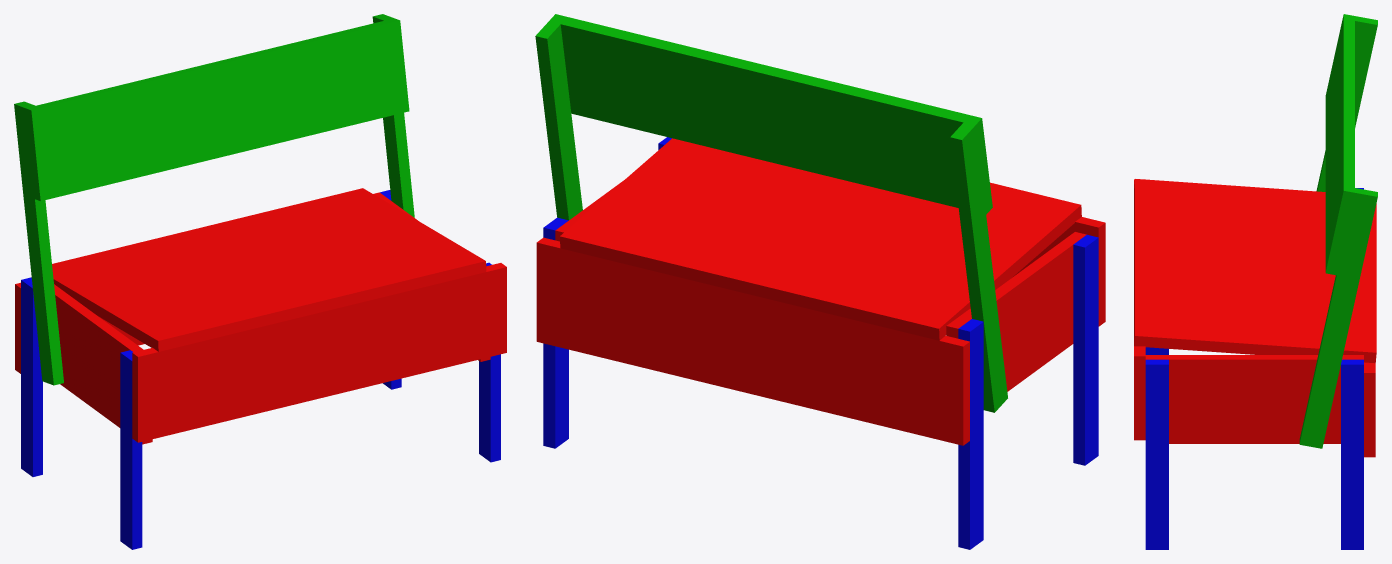
The model's file is result.glb.
The picture shows the model from 3 angles, left to right: view 1: azimuth 30°, elevation 25°; view 2: azimuth 150°, elevation 25°; view 3: azimuth 270°, elevation 25°; orthographic projection. The views are drawn at different scales.
Visible parts, largest first — view 1: 12edac28-12b5-41e8-89d9-925f14b7f547__back rest plank, 0223175d-d548-4412-989a-db3840c0fc50__back rest plank, 7d2c258c-1a80-46c8-bcc9-03d5c8d1cd6d__base front, 18c5d518-d3d4-40ce-b4d2-0784bac637be__base front, 7c1b27d6-04a7-4052-9a96-cad68e4f96f6__seat board, aad67730-fbe4-4bda-a242-ced0f87733a7__back rest diagonal, cc63d6dc-ee91-415e-93f1-566ccf4d4a65__seat board, da2111a9-cc51-41ec-aeac-295d4d546bab__seat board, 5ee04900-88dc-4803-b4aa-6ea64205f2cc__seat board, 66f8ef5d-ec7e-4cf6-8318-796b88fdcec1__seat board, 1e4abac7-1fc5-446a-ab41-708cb88c4a9f__seat board, fcd9bebe-1f1f-41c8-ac15-ca68c6cea325__seat board (+7 smaller); view 2: 38e5304f-0453-43d9-9e38-04c4804c6b64__base back, af1c08e3-7c74-4e7f-a2ca-7df6e5864b85__base back, 12edac28-12b5-41e8-89d9-925f14b7f547__back rest plank, 0223175d-d548-4412-989a-db3840c0fc50__back rest plank, 7c1b27d6-04a7-4052-9a96-cad68e4f96f6__seat board, aad67730-fbe4-4bda-a242-ced0f87733a7__back rest diagonal, cc63d6dc-ee91-415e-93f1-566ccf4d4a65__seat board, 4db6ea7e-4d0a-4ecd-9008-5f8ab3ad8c37__seat board, 1e4abac7-1fc5-446a-ab41-708cb88c4a9f__seat board, 5ee04900-88dc-4803-b4aa-6ea64205f2cc__seat board, da2111a9-cc51-41ec-aeac-295d4d546bab__seat board, 66f8ef5d-ec7e-4cf6-8318-796b88fdcec1__seat board (+8 smaller); view 3: 9497cfe2-d16a-4cb4-8c65-81897382cc2a__base right, 5ee04900-88dc-4803-b4aa-6ea64205f2cc__seat board, 7a25e896-629a-46d9-8ebb-9106564c409b__back rest diagonal, 1dfa5de0-2977-4fc6-8f24-99ef8a7f3571__base right, ccd7a5e8-89a0-46a1-89be-57693fa328c6__leg front right, 1e4abac7-1fc5-446a-ab41-708cb88c4a9f__seat board, fcd9bebe-1f1f-41c8-ac15-ca68c6cea325__seat board, 66f8ef5d-ec7e-4cf6-8318-796b88fdcec1__seat board, 9e358faa-f13c-4597-bcc3-8024508c7f25__leg back right, 12edac28-12b5-41e8-89d9-925f14b7f547__back rest plank, da2111a9-cc51-41ec-aeac-295d4d546bab__seat board, 4db6ea7e-4d0a-4ecd-9008-5f8ab3ad8c37__seat board (+8 smaller).
Part boxes in pixels (<box>): 12edac28-12b5-41e8-89d9-925f14b7f547__back rest plank: <box>25,18,404,155</box>; 0223175d-d548-4412-989a-db3840c0fc50__back rest plank: <box>30,66,409,201</box>; 7d2c258c-1a80-46c8-bcc9-03d5c8d1cd6d__base front: <box>132,263,506,399</box>; 18c5d518-d3d4-40ce-b4d2-0784bac637be__base front: <box>132,310,506,442</box>; 7c1b27d6-04a7-4052-9a96-cad68e4f96f6__seat board: <box>52,258,199,351</box>; aad67730-fbe4-4bda-a242-ced0f87733a7__back rest diagonal: <box>14,101,63,385</box>; cc63d6dc-ee91-415e-93f1-566ccf4d4a65__seat board: <box>76,248,240,341</box>; da2111a9-cc51-41ec-aeac-295d4d546bab__seat board: <box>158,228,322,321</box>; 5ee04900-88dc-4803-b4aa-6ea64205f2cc__seat board: <box>322,188,486,281</box>; 66f8ef5d-ec7e-4cf6-8318-796b88fdcec1__seat board: <box>199,218,363,311</box>; 1e4abac7-1fc5-446a-ab41-708cb88c4a9f__seat board: <box>240,208,404,301</box>; fcd9bebe-1f1f-41c8-ac15-ca68c6cea325__seat board: <box>281,198,445,291</box>; 38e5304f-0453-43d9-9e38-04c4804c6b64__base back: <box>536,237,969,395</box>; af1c08e3-7c74-4e7f-a2ca-7df6e5864b85__base back: <box>536,292,969,445</box>; 12edac28-12b5-41e8-89d9-925f14b7f547__back rest plank: <box>549,14,987,169</box>; 0223175d-d548-4412-989a-db3840c0fc50__back rest plank: <box>566,69,992,214</box>; 7c1b27d6-04a7-4052-9a96-cad68e4f96f6__seat board: <box>891,193,1081,340</box>; aad67730-fbe4-4bda-a242-ced0f87733a7__back rest diagonal: <box>950,122,1007,412</box>; cc63d6dc-ee91-415e-93f1-566ccf4d4a65__seat board: <box>844,182,1033,328</box>; 4db6ea7e-4d0a-4ecd-9008-5f8ab3ad8c37__seat board: <box>797,196,956,317</box>; 1e4abac7-1fc5-446a-ab41-708cb88c4a9f__seat board: <box>654,161,813,282</box>; 5ee04900-88dc-4803-b4aa-6ea64205f2cc__seat board: <box>560,138,719,259</box>; da2111a9-cc51-41ec-aeac-295d4d546bab__seat board: <box>749,184,908,305</box>; 66f8ef5d-ec7e-4cf6-8318-796b88fdcec1__seat board: <box>702,173,861,294</box>; 9497cfe2-d16a-4cb4-8c65-81897382cc2a__base right: <box>1145,355,1363,401</box>; 5ee04900-88dc-4803-b4aa-6ea64205f2cc__seat board: <box>1134,316,1376,363</box>; 7a25e896-629a-46d9-8ebb-9106564c409b__back rest diagonal: <box>1299,188,1377,448</box>; 1dfa5de0-2977-4fc6-8f24-99ef8a7f3571__base right: <box>1169,402,1340,443</box>; ccd7a5e8-89a0-46a1-89be-57693fa328c6__leg front right: <box>1145,359,1168,549</box>; 1e4abac7-1fc5-446a-ab41-708cb88c4a9f__seat board: <box>1134,277,1376,313</box>; fcd9bebe-1f1f-41c8-ac15-ca68c6cea325__seat board: <box>1134,296,1376,332</box>; 66f8ef5d-ec7e-4cf6-8318-796b88fdcec1__seat board: <box>1134,257,1376,293</box>; 9e358faa-f13c-4597-bcc3-8024508c7f25__leg back right: <box>1341,359,1363,549</box>; 12edac28-12b5-41e8-89d9-925f14b7f547__back rest plank: <box>1334,14,1354,233</box>; da2111a9-cc51-41ec-aeac-295d4d546bab__seat board: <box>1134,237,1376,274</box>; 4db6ea7e-4d0a-4ecd-9008-5f8ab3ad8c37__seat board: <box>1134,218,1376,254</box>.
Size of the model in its own units: 900 by 853 by 525.
